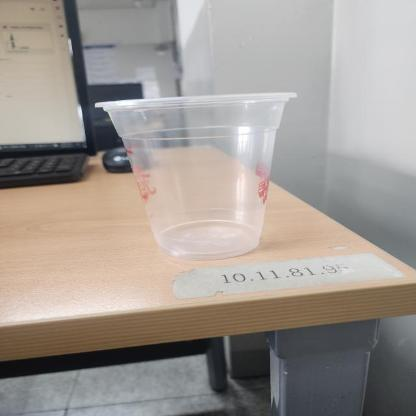Plastic Cup: (94, 92, 300, 260)
